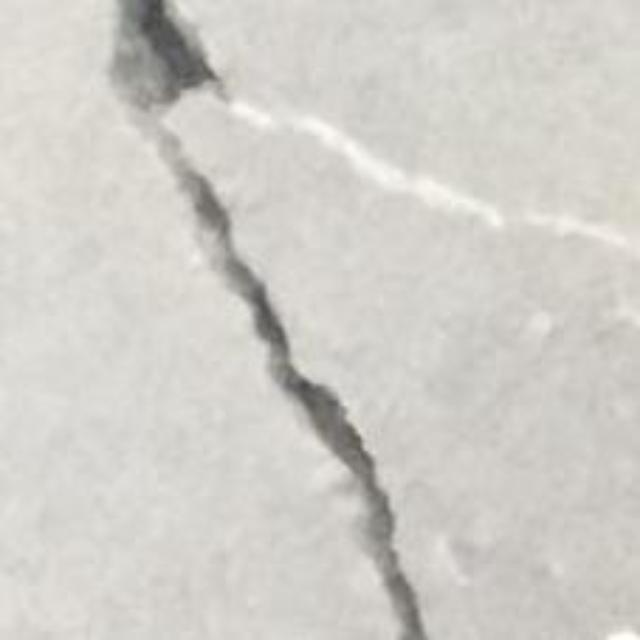crack: (113, 0, 639, 639)
